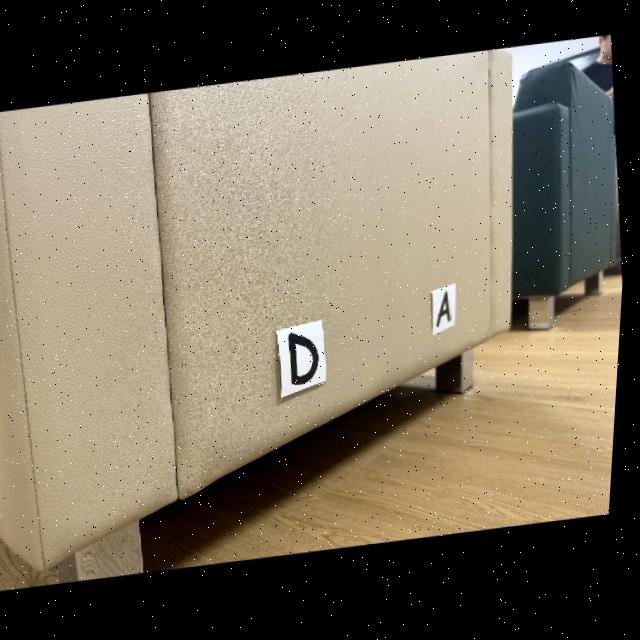A: (440, 293, 455, 329)
D: (291, 334, 323, 386)
